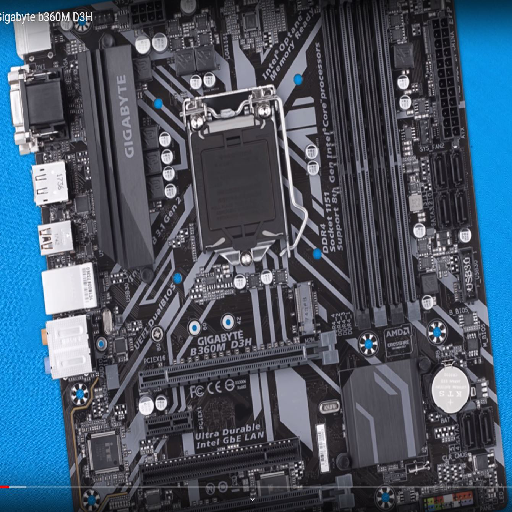CPU: (187, 101, 287, 266)
GPU: (138, 332, 338, 393)
MOTHERBOARD: (17, 3, 511, 511)
RAM: (318, 4, 425, 330)
SSD: (290, 277, 316, 331)
